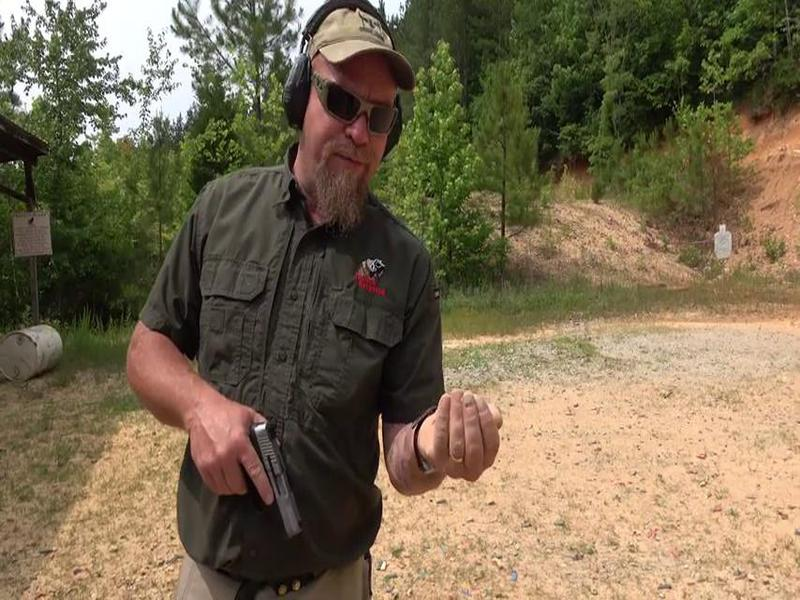Pistola: (197, 403, 319, 542)
